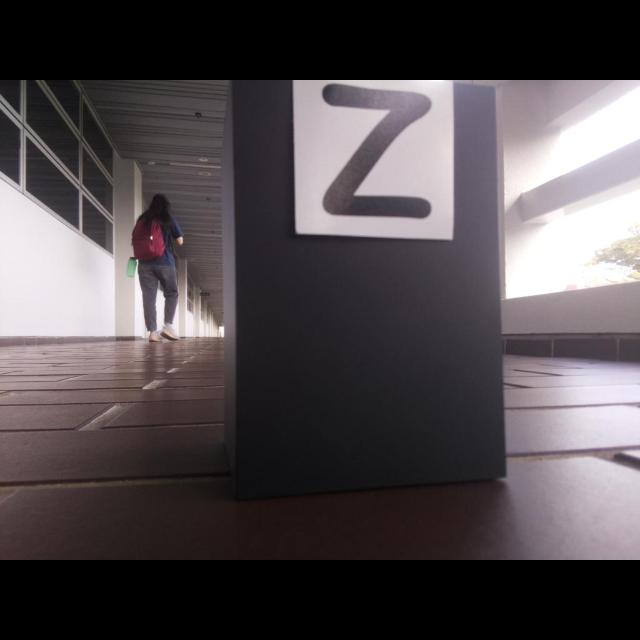Z: (323, 84, 432, 218)
